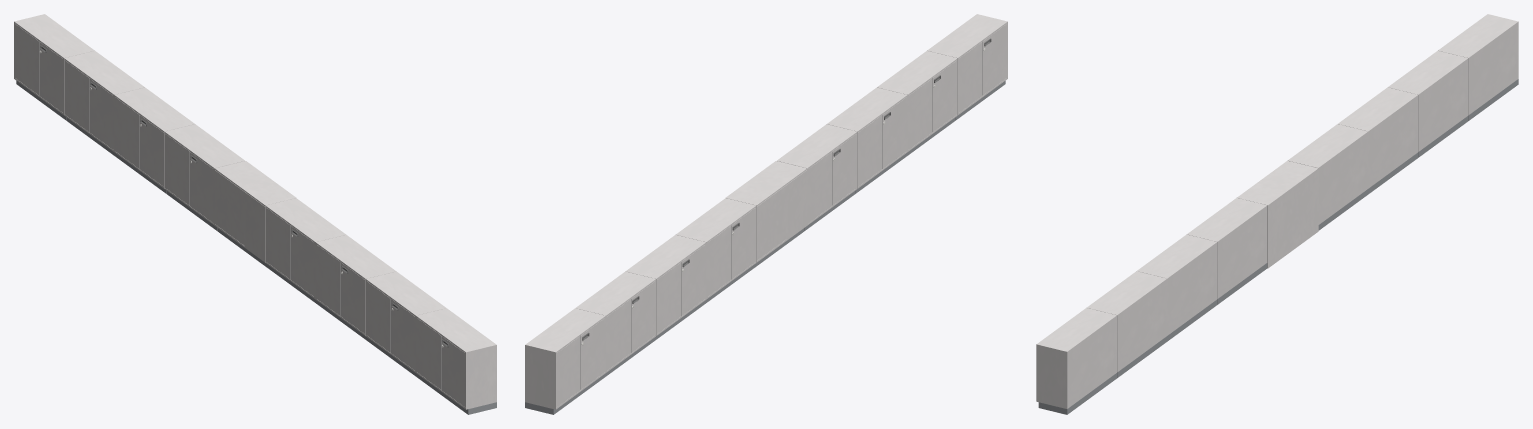
Rendered from 317 뒤사물함.fbx.
3 renders of one model, left to right at view 1: azimuth 30°, elevation 25°; view 2: azimuth 150°, elevation 25°; view 3: azimuth 330°, elevation 25°, orthographic.
Parts seen in each view (by area): view 1: Cube.003; view 2: Cube.003; view 3: Cube.003.
Part boxes in pixels (x1,y1,x2,y2): Cube.003: [14, 14, 496, 414]; Cube.003: [525, 14, 1007, 414]; Cube.003: [1036, 14, 1518, 414].
Bounding box in the file's own units: 79.2 × 149 × 1931.
